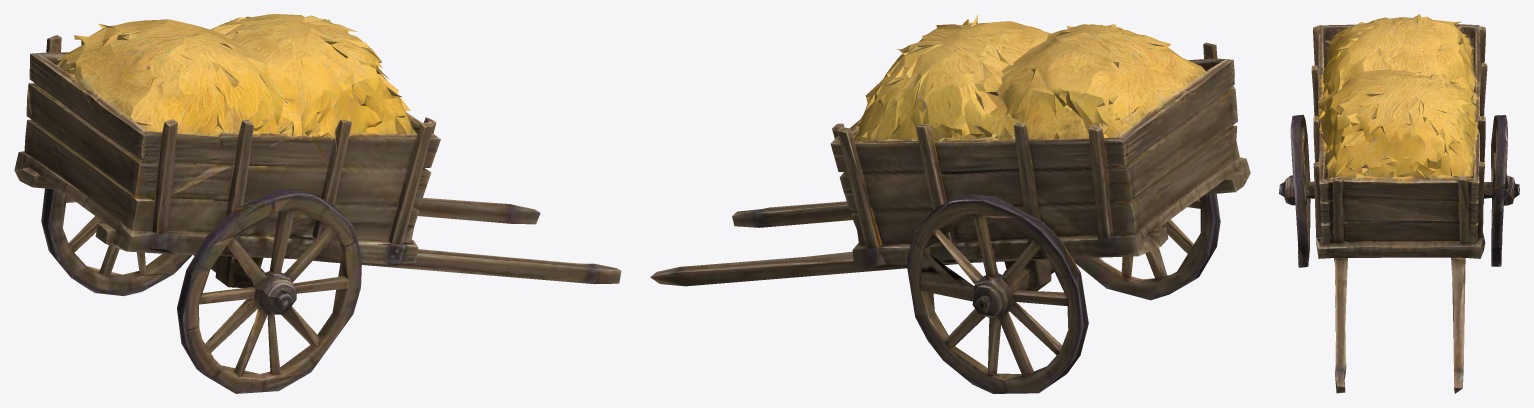
The model's file is haycart.glb.
3 renders of one model, left to right at view 1: azimuth 30°, elevation 25°; view 2: azimuth 150°, elevation 25°; view 3: azimuth 270°, elevation 25°, orthographic. The views are drawn at different scales.
Parts seen in each view (by area): view 1: output_unwrapped; view 2: output_unwrapped; view 3: output_unwrapped.
Part boxes in pixels (bbox=[...]): output_unwrapped: bbox=[14, 14, 621, 393]; output_unwrapped: bbox=[650, 14, 1250, 393]; output_unwrapped: bbox=[1279, 14, 1519, 393].
Bounding box in the file's own units: 1.9 × 1.11 × 1.07.
Materials: 1 (1 with a texture image).
